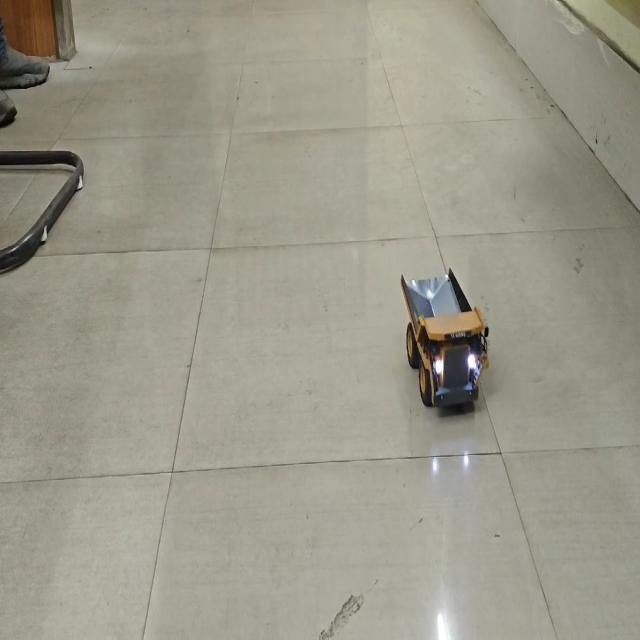dump_truck: (398, 267, 488, 413)
